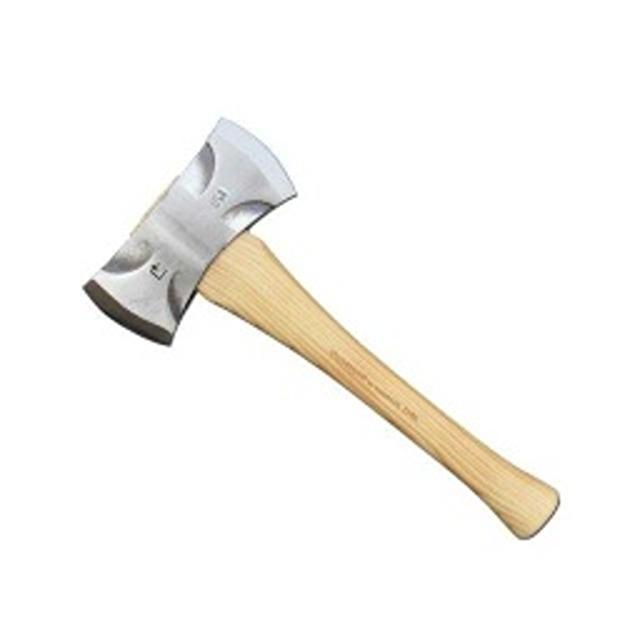ax: (81, 110, 564, 546)
